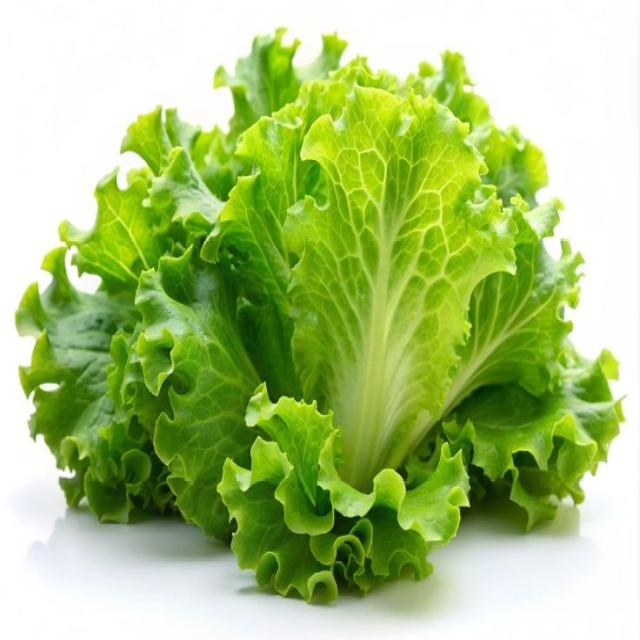lettuce: (17, 32, 621, 599)
